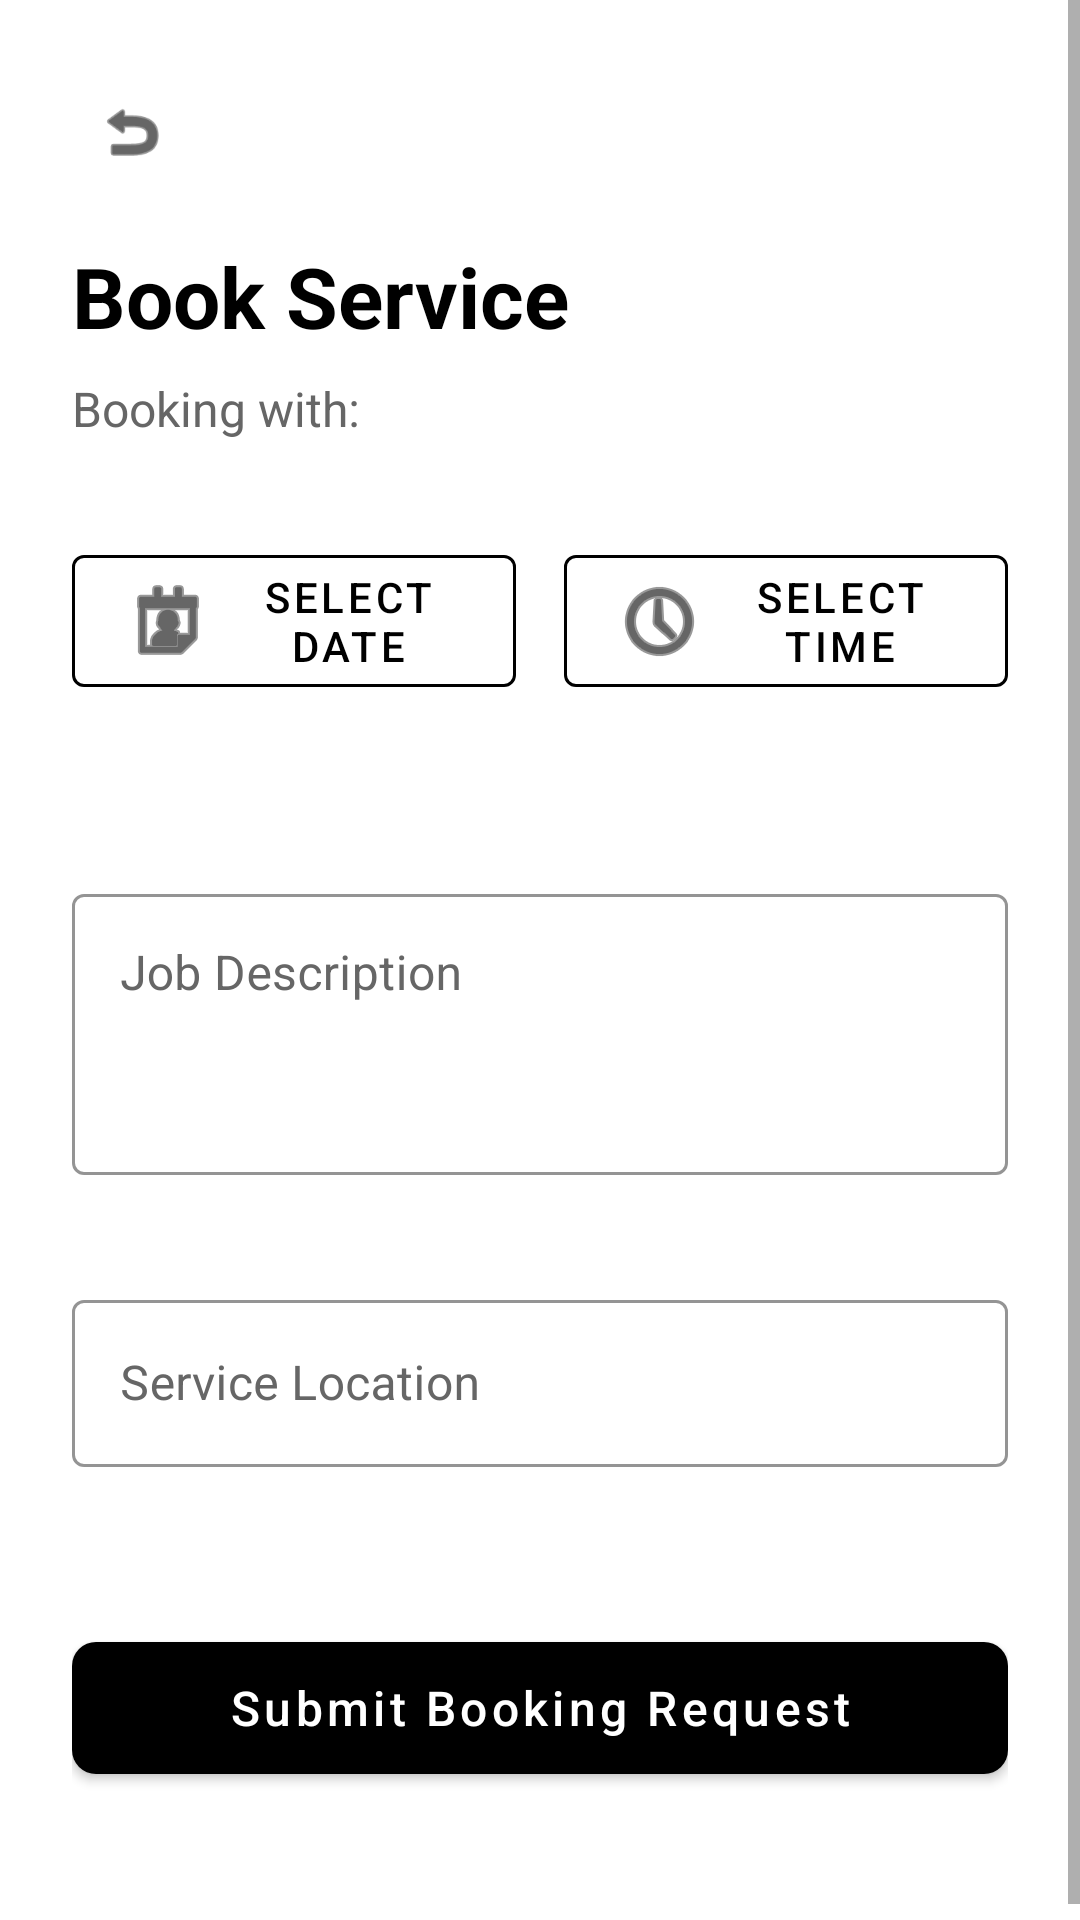

Screen size 1080px x 1920px. Icon name, then its box in pixels as Rect(x1, y1, x2, y2):
Back: Rect(107, 109, 159, 156)
